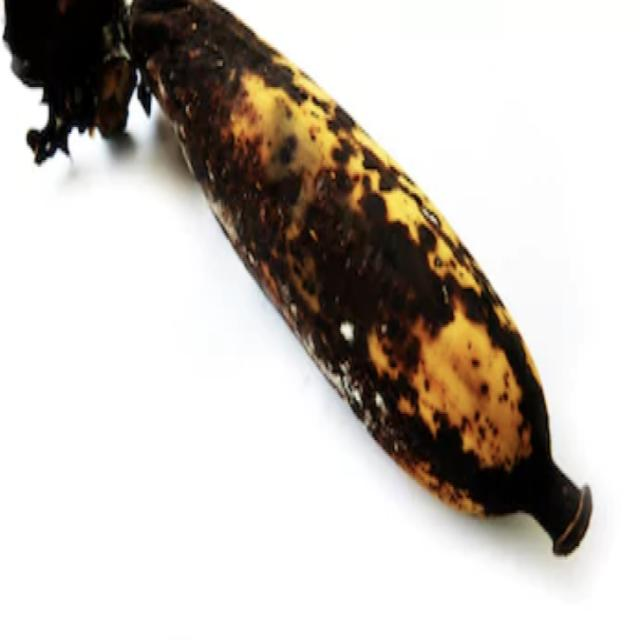fresh-banana: (126, 0, 594, 557)
